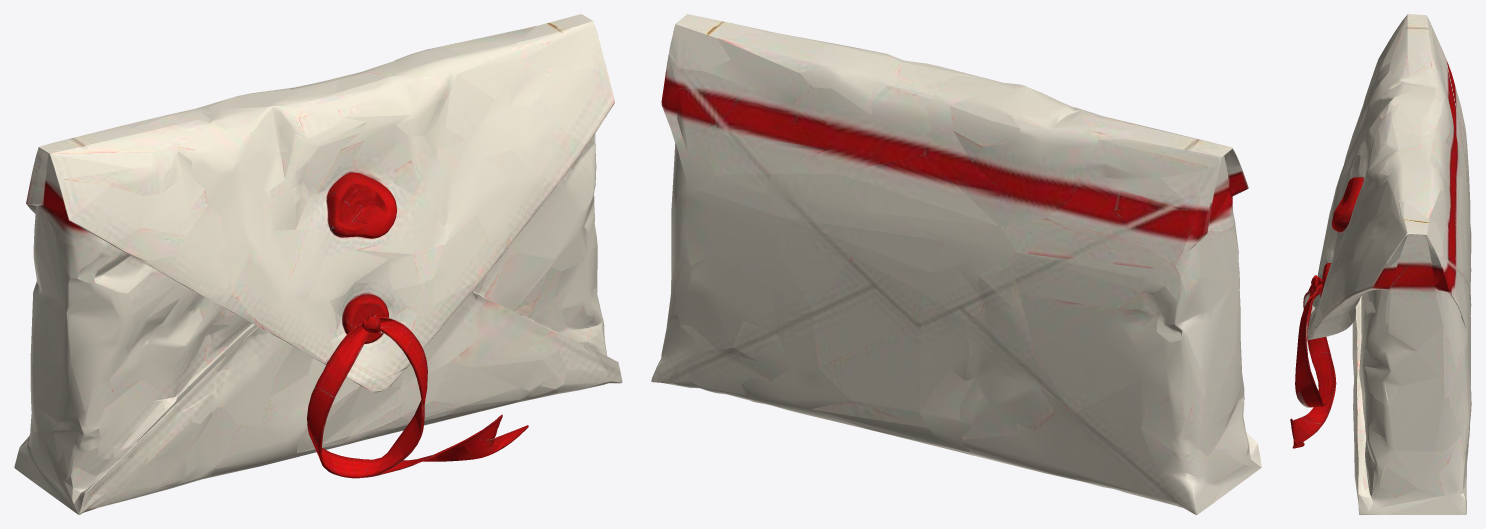
The model's file is letter.glb.
The picture shows the model from 3 angles, left to right: view 1: azimuth 30°, elevation 25°; view 2: azimuth 150°, elevation 25°; view 3: azimuth 270°, elevation 25°; orthographic projection. The views are drawn at different scales.
Bounding box in the file's own units: 1.9 × 1.17 × 0.663.
Materials: 1 (1 with a texture image).
